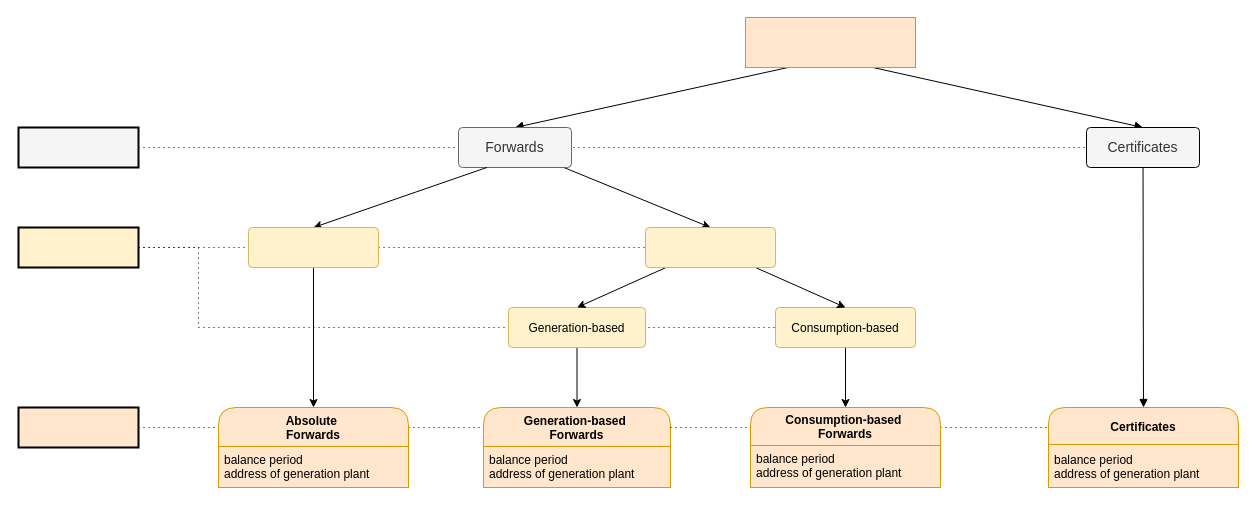
Some shapes in this 1256 by 508 pixel diagram are drawn without their labels. The centre of each missing label's shape, as x and y in pixels:
"<<smart contract>> Energy Token is ERC1155" belongs at (830,42).
"Absolute" belongs at (313,247).
"Family" belongs at (78,147).
"Genus" belongs at (78,247).
"Relative" belongs at (710,247).
"Species" belongs at (78,427).
